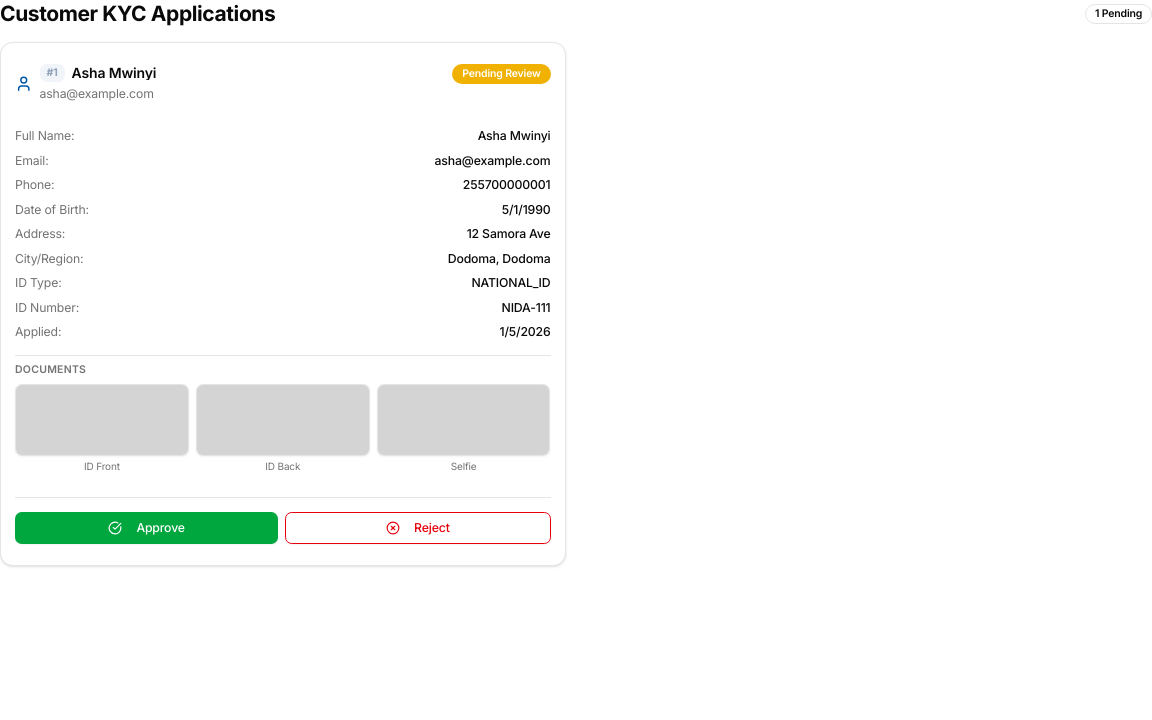
Test: CustomerKYCApprovalTab › rejecting › disables confirm until a reason is typed, then submits it
Click the button "Reject" at (418, 528), box [285, 512, 551, 544]
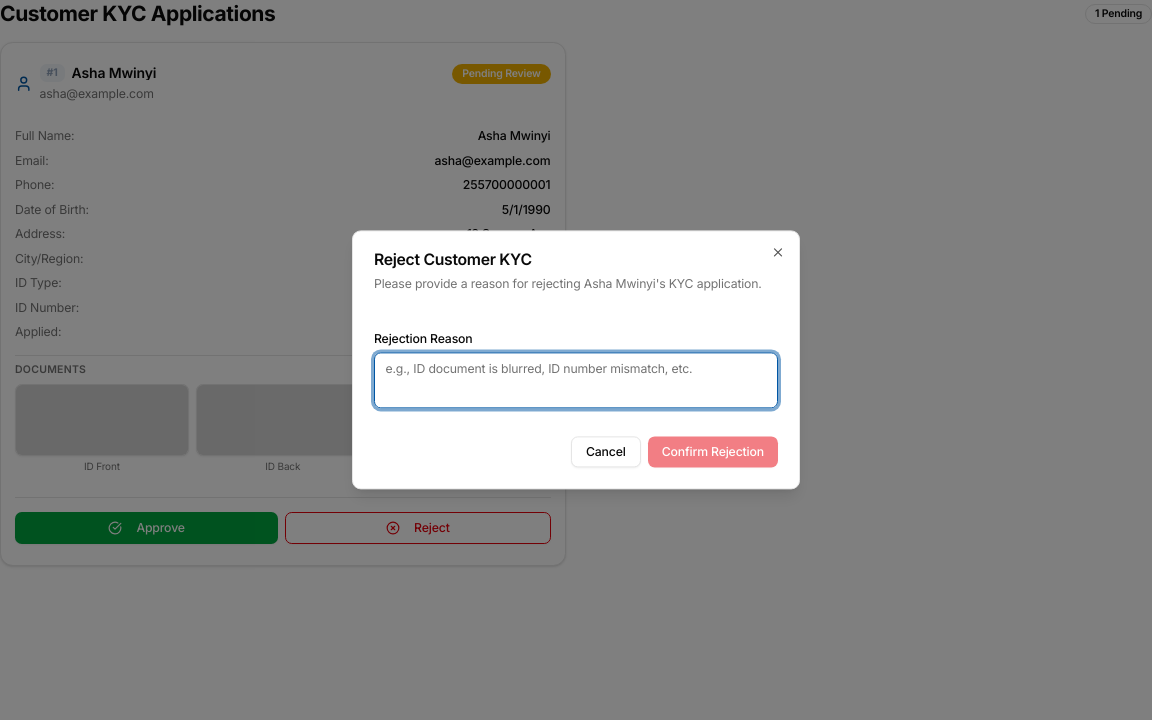
Now the button "Confirm Rejection" is disabled, box [648, 436, 778, 468]
Type "Blurry ID photo" into the text box labelled "Rejection Reason" at (576, 380), box [374, 352, 778, 408]
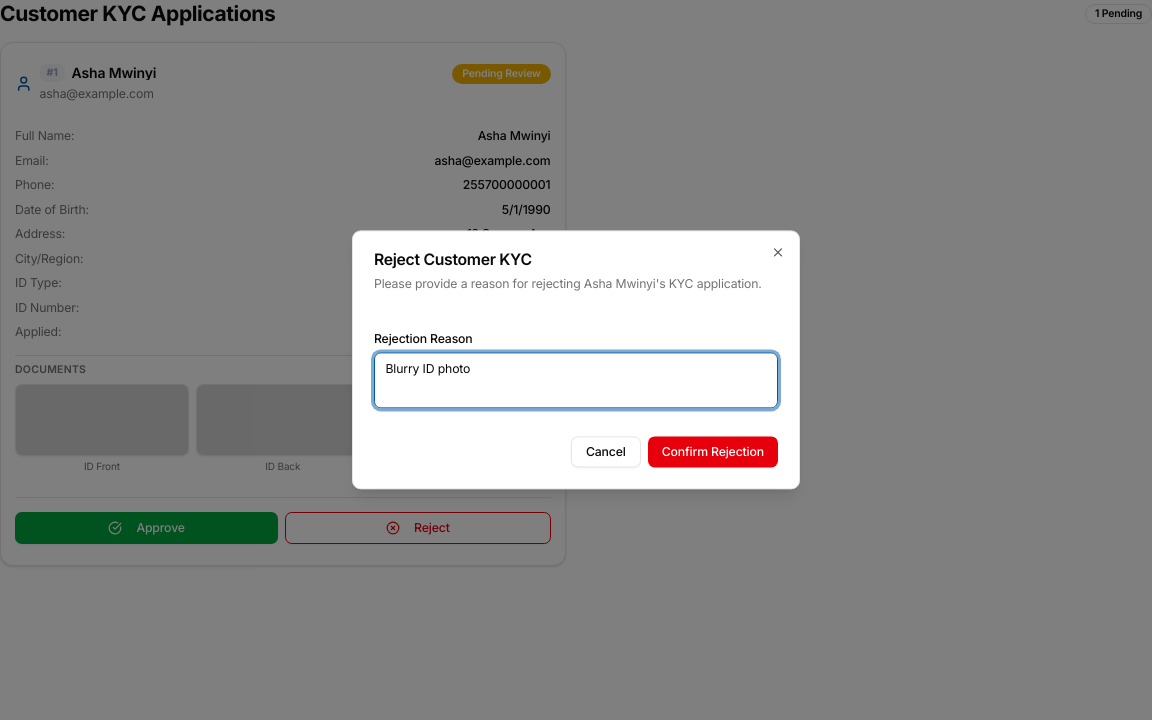
Click the button "Confirm Rejection" at (713, 452), box [648, 436, 778, 468]
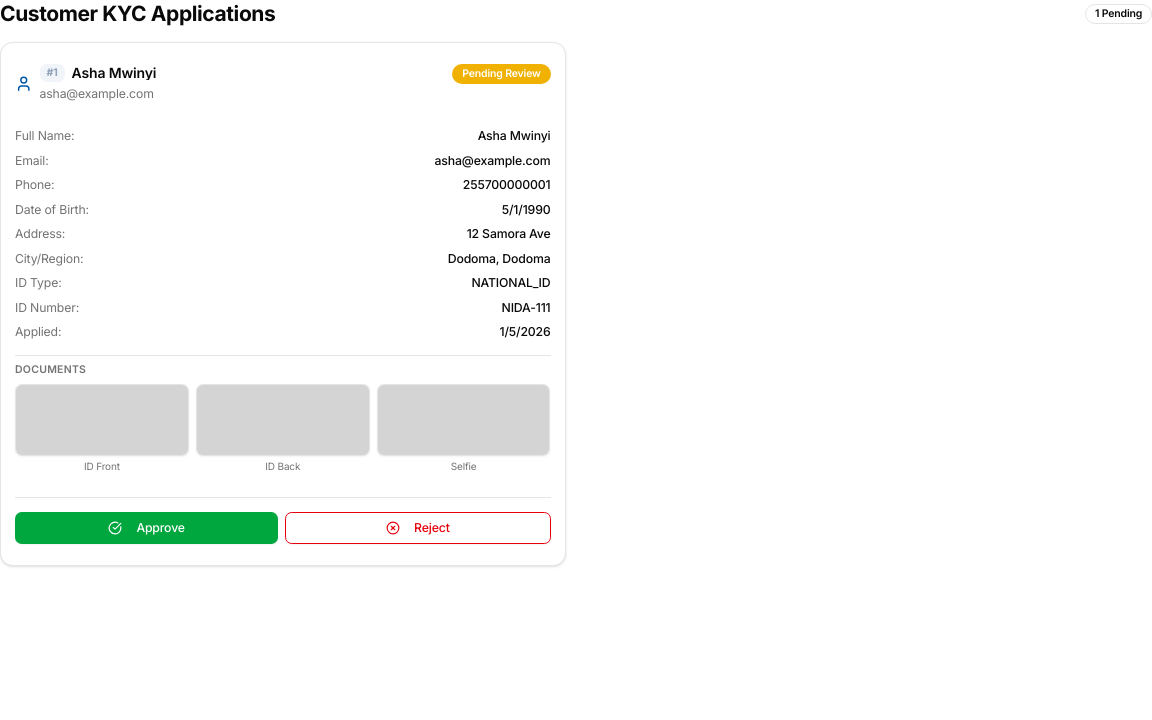
Now the dialog is gone
